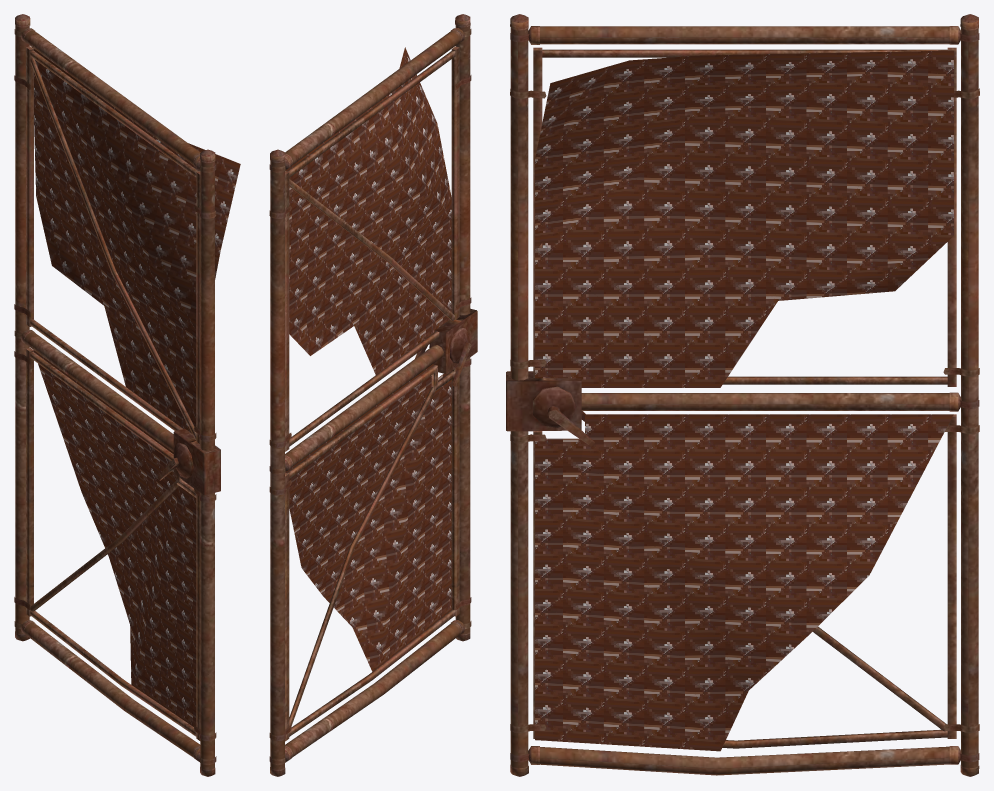
The model's file is door.hinged.chainlink.npconly.glb.
3 views of the same model, side by side, from view 1: azimuth 30°, elevation 25°; view 2: azimuth 150°, elevation 25°; view 3: azimuth 270°, elevation 25° (orthographic). The views are drawn at different scales.
Parts seen in each view (by area): view 1: chainlink_fence_door_LOD0; view 2: chainlink_fence_door_LOD0; view 3: chainlink_fence_door_LOD0.
Boxes of the visible parts, box(x1,y1,x2,y2) form: chainlink_fence_door_LOD0: box(14, 14, 240, 776); chainlink_fence_door_LOD0: box(269, 14, 477, 776); chainlink_fence_door_LOD0: box(506, 14, 979, 776).
Size of the model in its own units: 0.2279 by 2.08 by 1.17.
2 materials, 2 textured.
